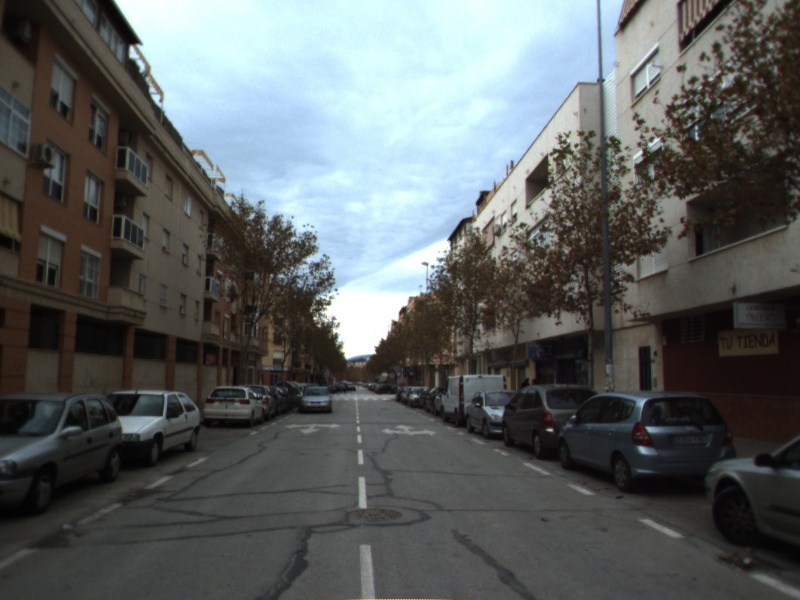STRAIGHT_LEFT_RIGHT: (380, 423, 438, 437)
